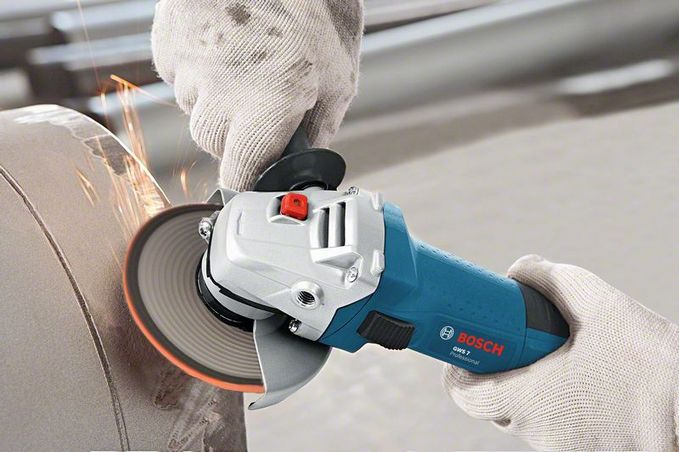Bosch: (457, 325, 505, 362)
